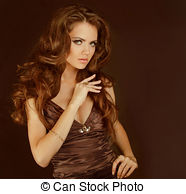face: (54, 7, 103, 73)
